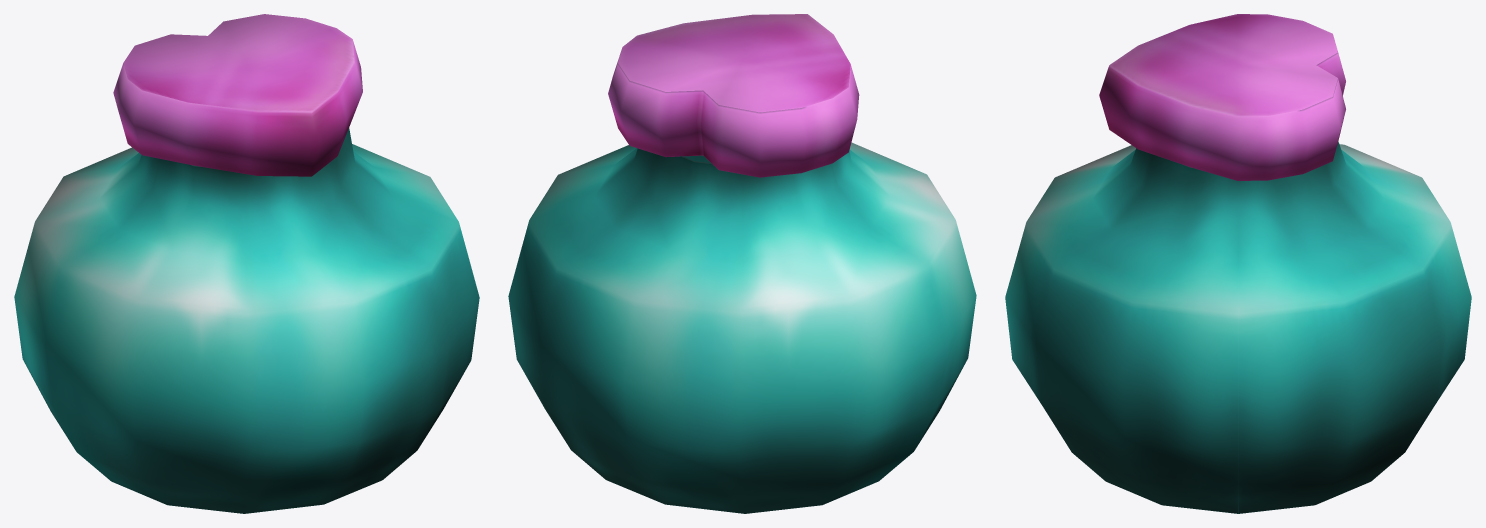
File: Drink.obj
The picture shows the model from 3 angles, left to right: view 1: azimuth 30°, elevation 25°; view 2: azimuth 150°, elevation 25°; view 3: azimuth 270°, elevation 25°; orthographic projection.
Parts seen in each view (by area): view 1: wadainokobin; view 2: wadainokobin; view 3: wadainokobin.
Boxes of the visible parts, x1,y1,x2,y2 form: wadainokobin: [14, 14, 479, 513]; wadainokobin: [508, 14, 976, 513]; wadainokobin: [1005, 14, 1471, 513].
Size of the model in its own units: 1.29 by 1.23 by 1.3.
Materials: 1 (1 with a texture image).
